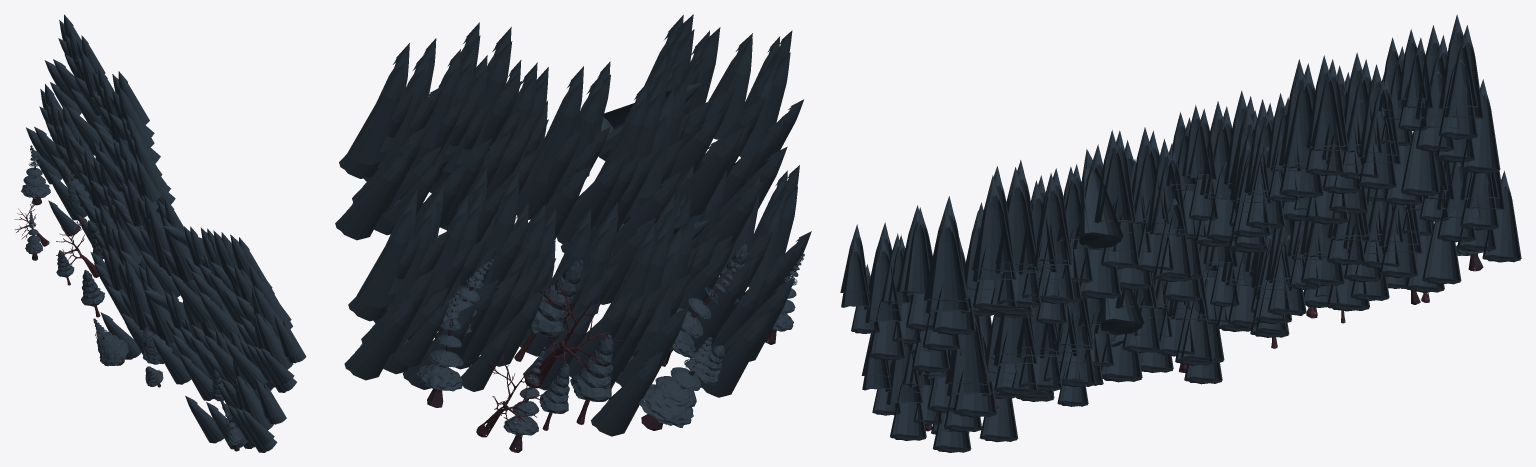
The model's file is topTrees.glb.
3 renders of one model, left to right at view 1: azimuth 30°, elevation 25°; view 2: azimuth 150°, elevation 25°; view 3: azimuth 270°, elevation 25°, orthographic. The views are drawn at different scales.
Parts seen in each view (by area): view 1: tree2.038, tree2.036, farTree1.279, farTree1.315, farTree1.376, farTree1.190, farTree1.154, farTree1.378, farTree1.254, farTree1.346, farTree1.251, farTree1.221 (+60 smaller); view 2: tree2.038, farTree1.364, tree2.036, farTree1.256, farTree1.239, farTree1.255, farTree1.131, tree4.021, farTree1.315, tree4.023, farTree1.269, farTree1.254 (+101 smaller); view 3: farTree1.352, farTree1.347, farTree1.350, farTree1.351, farTree1.227, farTree1.364, farTree1.285, farTree1.239, farTree1.362, farTree1.340, farTree1.348, farTree1.355 (+104 smaller).
Part boxes in pixels (x1,y1,x2,y2): tree2.038: (93, 318, 128, 366); tree2.036: (21, 145, 50, 205); farTree1.279: (162, 217, 193, 281); farTree1.315: (170, 273, 210, 322); farTree1.376: (198, 291, 239, 339); farTree1.190: (151, 336, 191, 384); farTree1.154: (144, 282, 174, 344); farTree1.378: (225, 341, 268, 389); farTree1.254: (185, 395, 223, 443); farTree1.346: (149, 208, 170, 267); farTree1.251: (179, 353, 213, 400); farTree1.221: (131, 273, 150, 329); tree2.038: (638, 337, 712, 430); farTree1.364: (335, 151, 411, 240); tree2.036: (416, 290, 463, 407); farTree1.256: (347, 62, 405, 165); farTree1.239: (344, 293, 418, 380); farTree1.255: (591, 351, 663, 436); farTree1.131: (356, 208, 412, 307); tree4.021: (514, 260, 583, 361); farTree1.315: (674, 128, 744, 217); tree4.023: (572, 334, 613, 424); farTree1.269: (528, 81, 582, 183); farTree1.254: (700, 312, 770, 397); farTree1.352: (925, 207, 969, 313); farTree1.347: (1079, 149, 1123, 249); farTree1.350: (972, 175, 1016, 282); farTree1.351: (995, 167, 1039, 273); farTree1.227: (947, 316, 991, 396); farTree1.364: (1461, 79, 1500, 173); farTree1.285: (896, 205, 929, 293); farTree1.239: (1482, 170, 1521, 262); farTree1.362: (1401, 130, 1439, 196); farTree1.340: (1094, 130, 1133, 223); farTree1.348: (1033, 173, 1072, 266); farTree1.355: (865, 234, 902, 323).
Bounding box in the file's own units: 31.14 × 80.69 × 114.
Materials: 1 (1 with a texture image).
